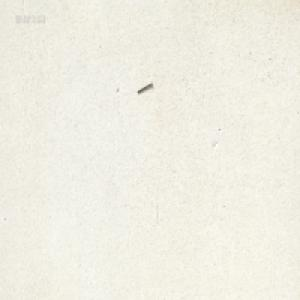Bolt: (136, 81, 152, 93)
